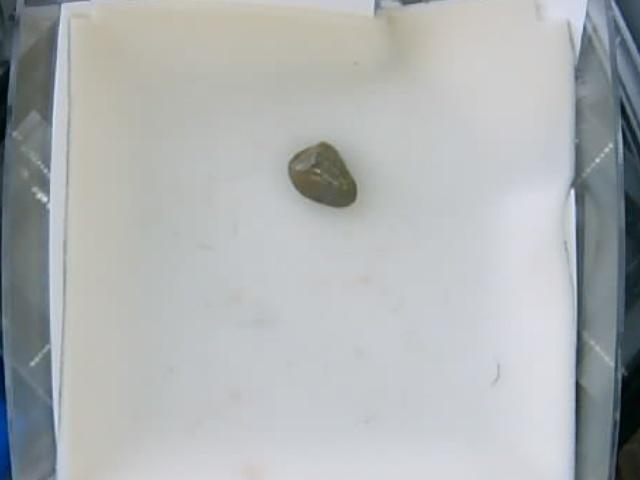Pebble: (287, 139, 359, 210)
